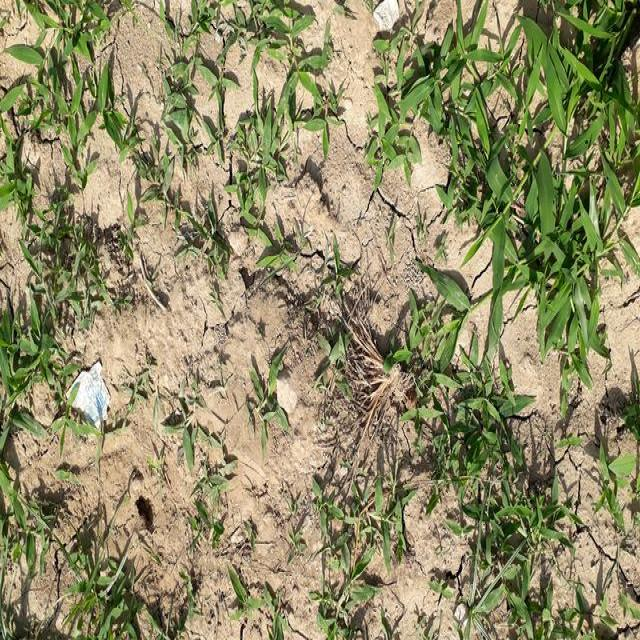weed: (383, 0, 640, 358), (3, 226, 141, 640), (420, 372, 570, 640), (0, 0, 103, 180)
